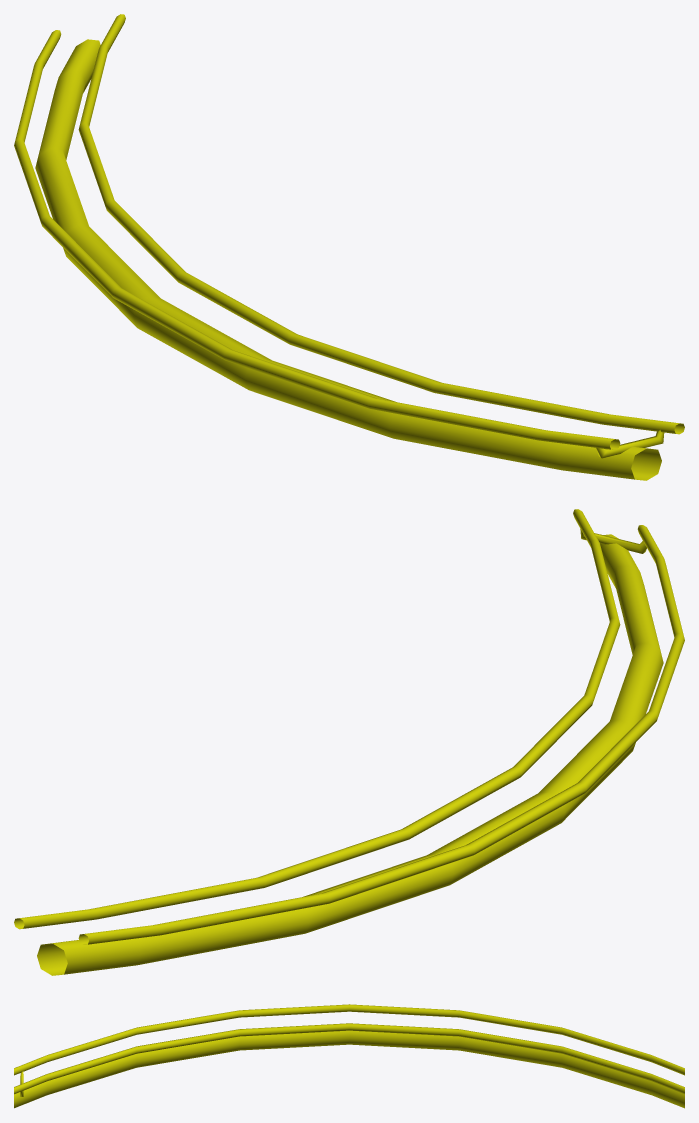
3 renders of one model, top to bottom at view 1: azimuth 30°, elevation 25°; view 2: azimuth 150°, elevation 25°; view 3: azimuth 270°, elevation 25°, orthographic. The views are drawn at different scales.
Visible parts, largest first — view 1: Mesh; view 2: Mesh; view 3: Mesh.
Boxes of the visible parts, left/top/right/bottom form: Mesh: left=14, top=14, right=684, bottom=480; Mesh: left=14, top=509, right=684, bottom=975; Mesh: left=14, top=1004, right=684, bottom=1108.
Bounding box in the file's own units: 258 × 41.58 × 851.
